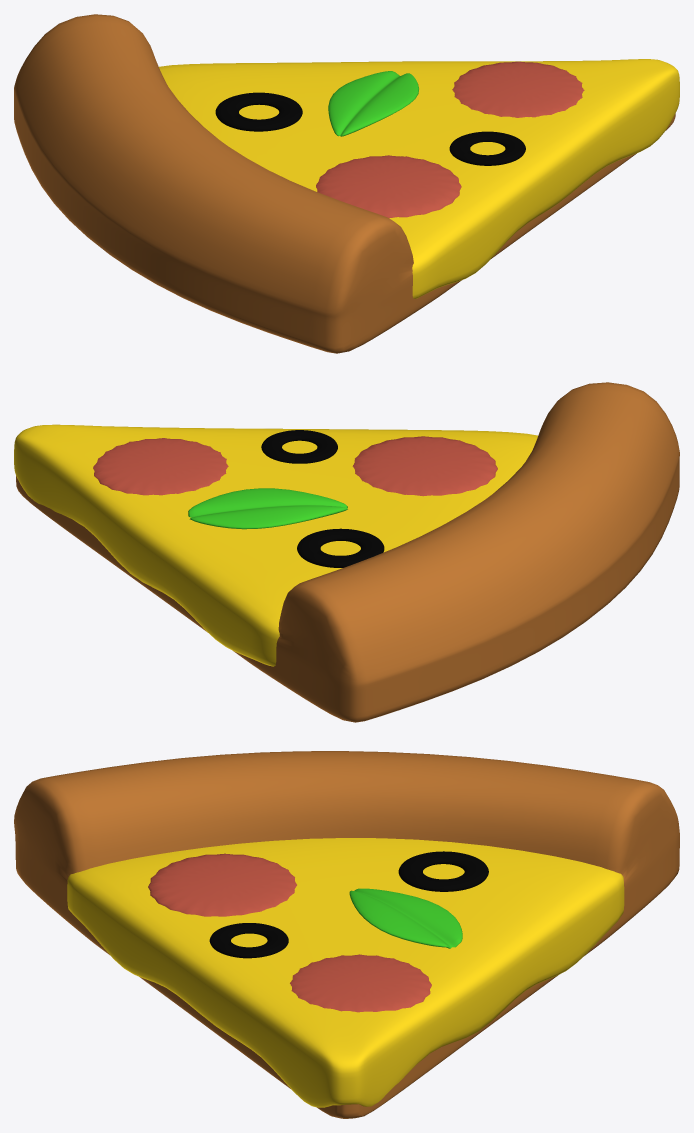
Rendered from Comida_VR.fbx.
The picture shows the model from 3 angles, top to bottom: view 1: azimuth 30°, elevation 25°; view 2: azimuth 150°, elevation 25°; view 3: azimuth 270°, elevation 25°; orthographic projection. The views are drawn at different scales.
Visible parts, largest first — view 1: Pizza; view 2: Pizza; view 3: Pizza.
Boxes of the visible parts, <box> form: Pizza: <box>14,14,679,353</box>; Pizza: <box>14,382,679,722</box>; Pizza: <box>14,751,679,1118</box>.
Size of the model in its own units: 232 by 43.48 by 227.
